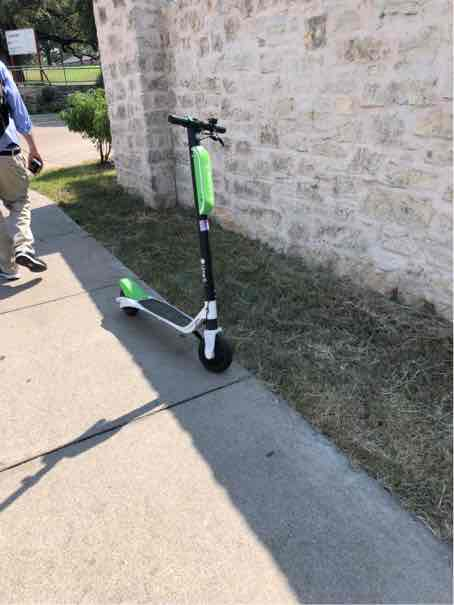scooter: (106, 103, 244, 382)
